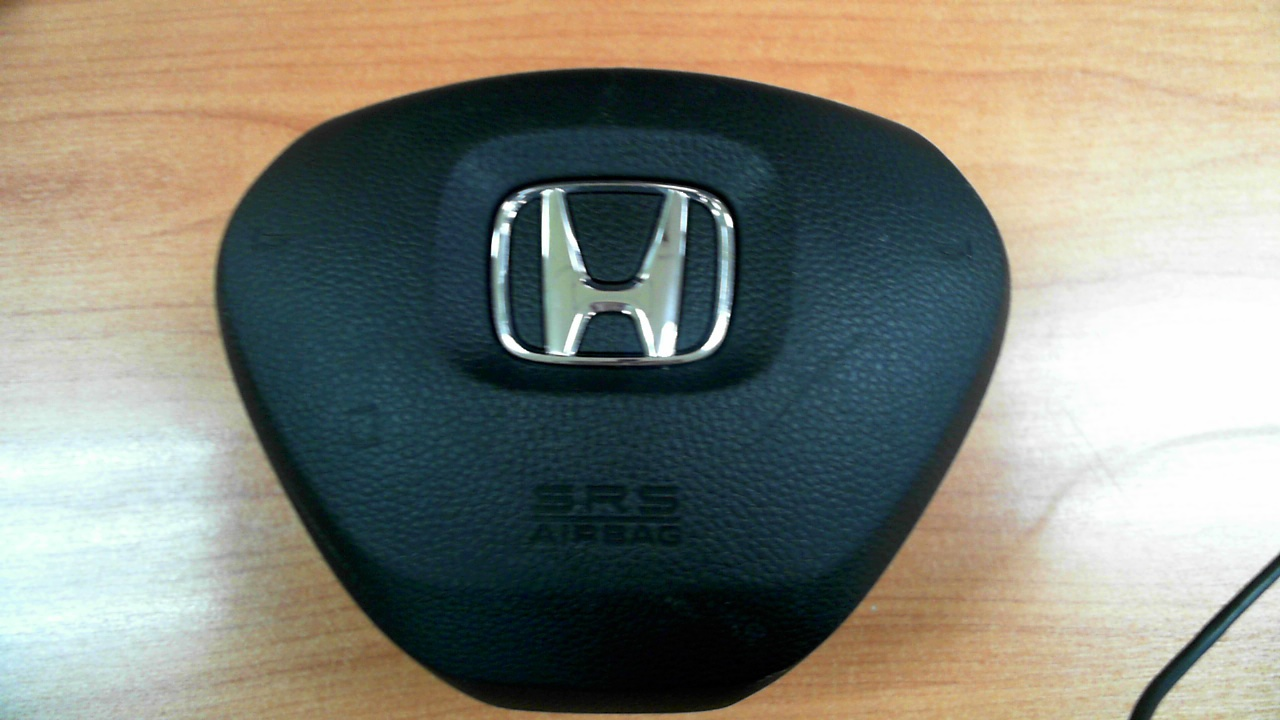Airbag: (215, 65, 1013, 717)
Honda: (490, 181, 736, 366)
